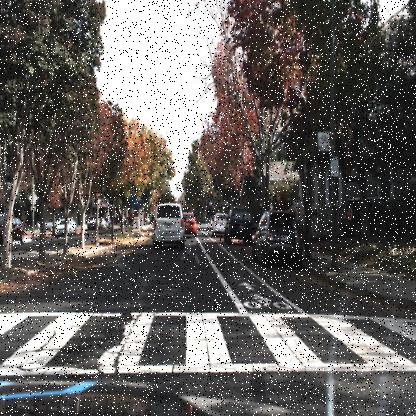car: (250, 206, 305, 270), (339, 193, 393, 238), (149, 198, 186, 250), (219, 205, 254, 247), (0, 216, 25, 246), (182, 206, 200, 242), (53, 214, 76, 240), (209, 209, 227, 238), (127, 209, 148, 228), (84, 210, 100, 234), (41, 215, 59, 233)
trafficLight-Red: (187, 182, 191, 194), (209, 190, 213, 202), (197, 196, 200, 208)
